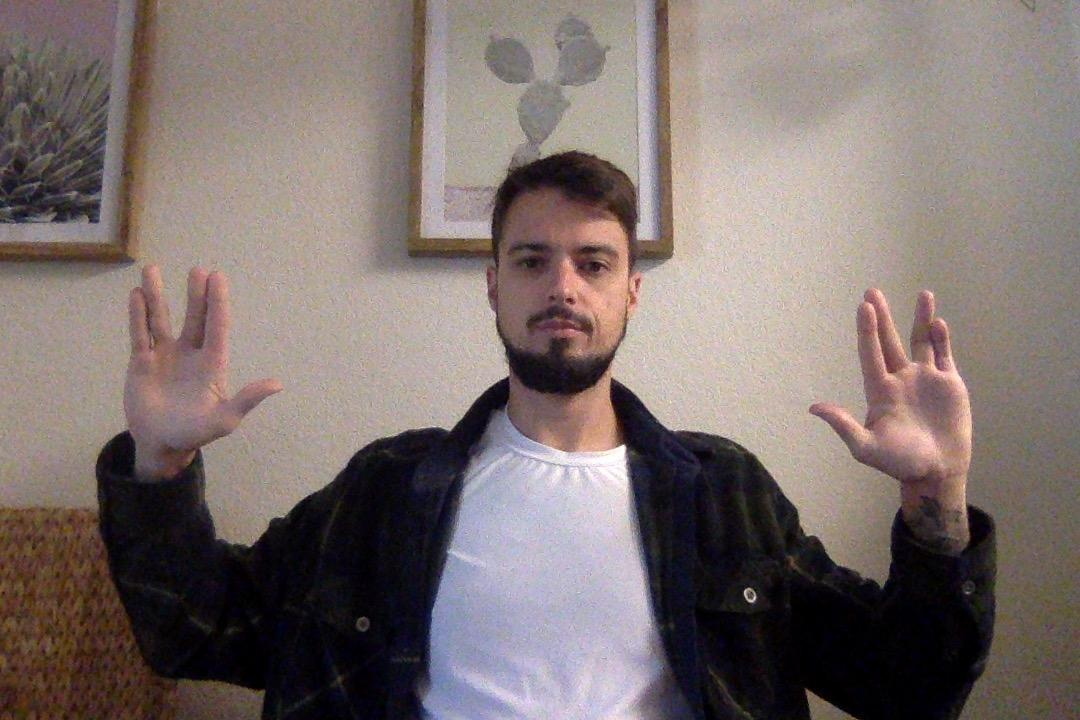Live-Long-Prosper: (804, 280, 984, 499), (117, 254, 297, 464)
